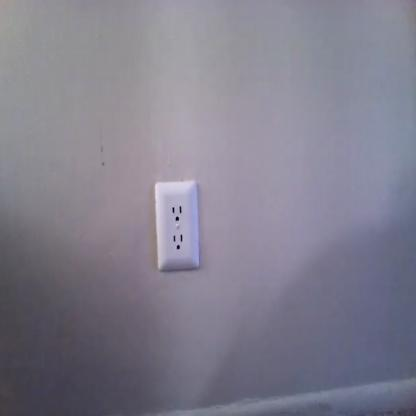OUTLET: (154, 183, 199, 268)
